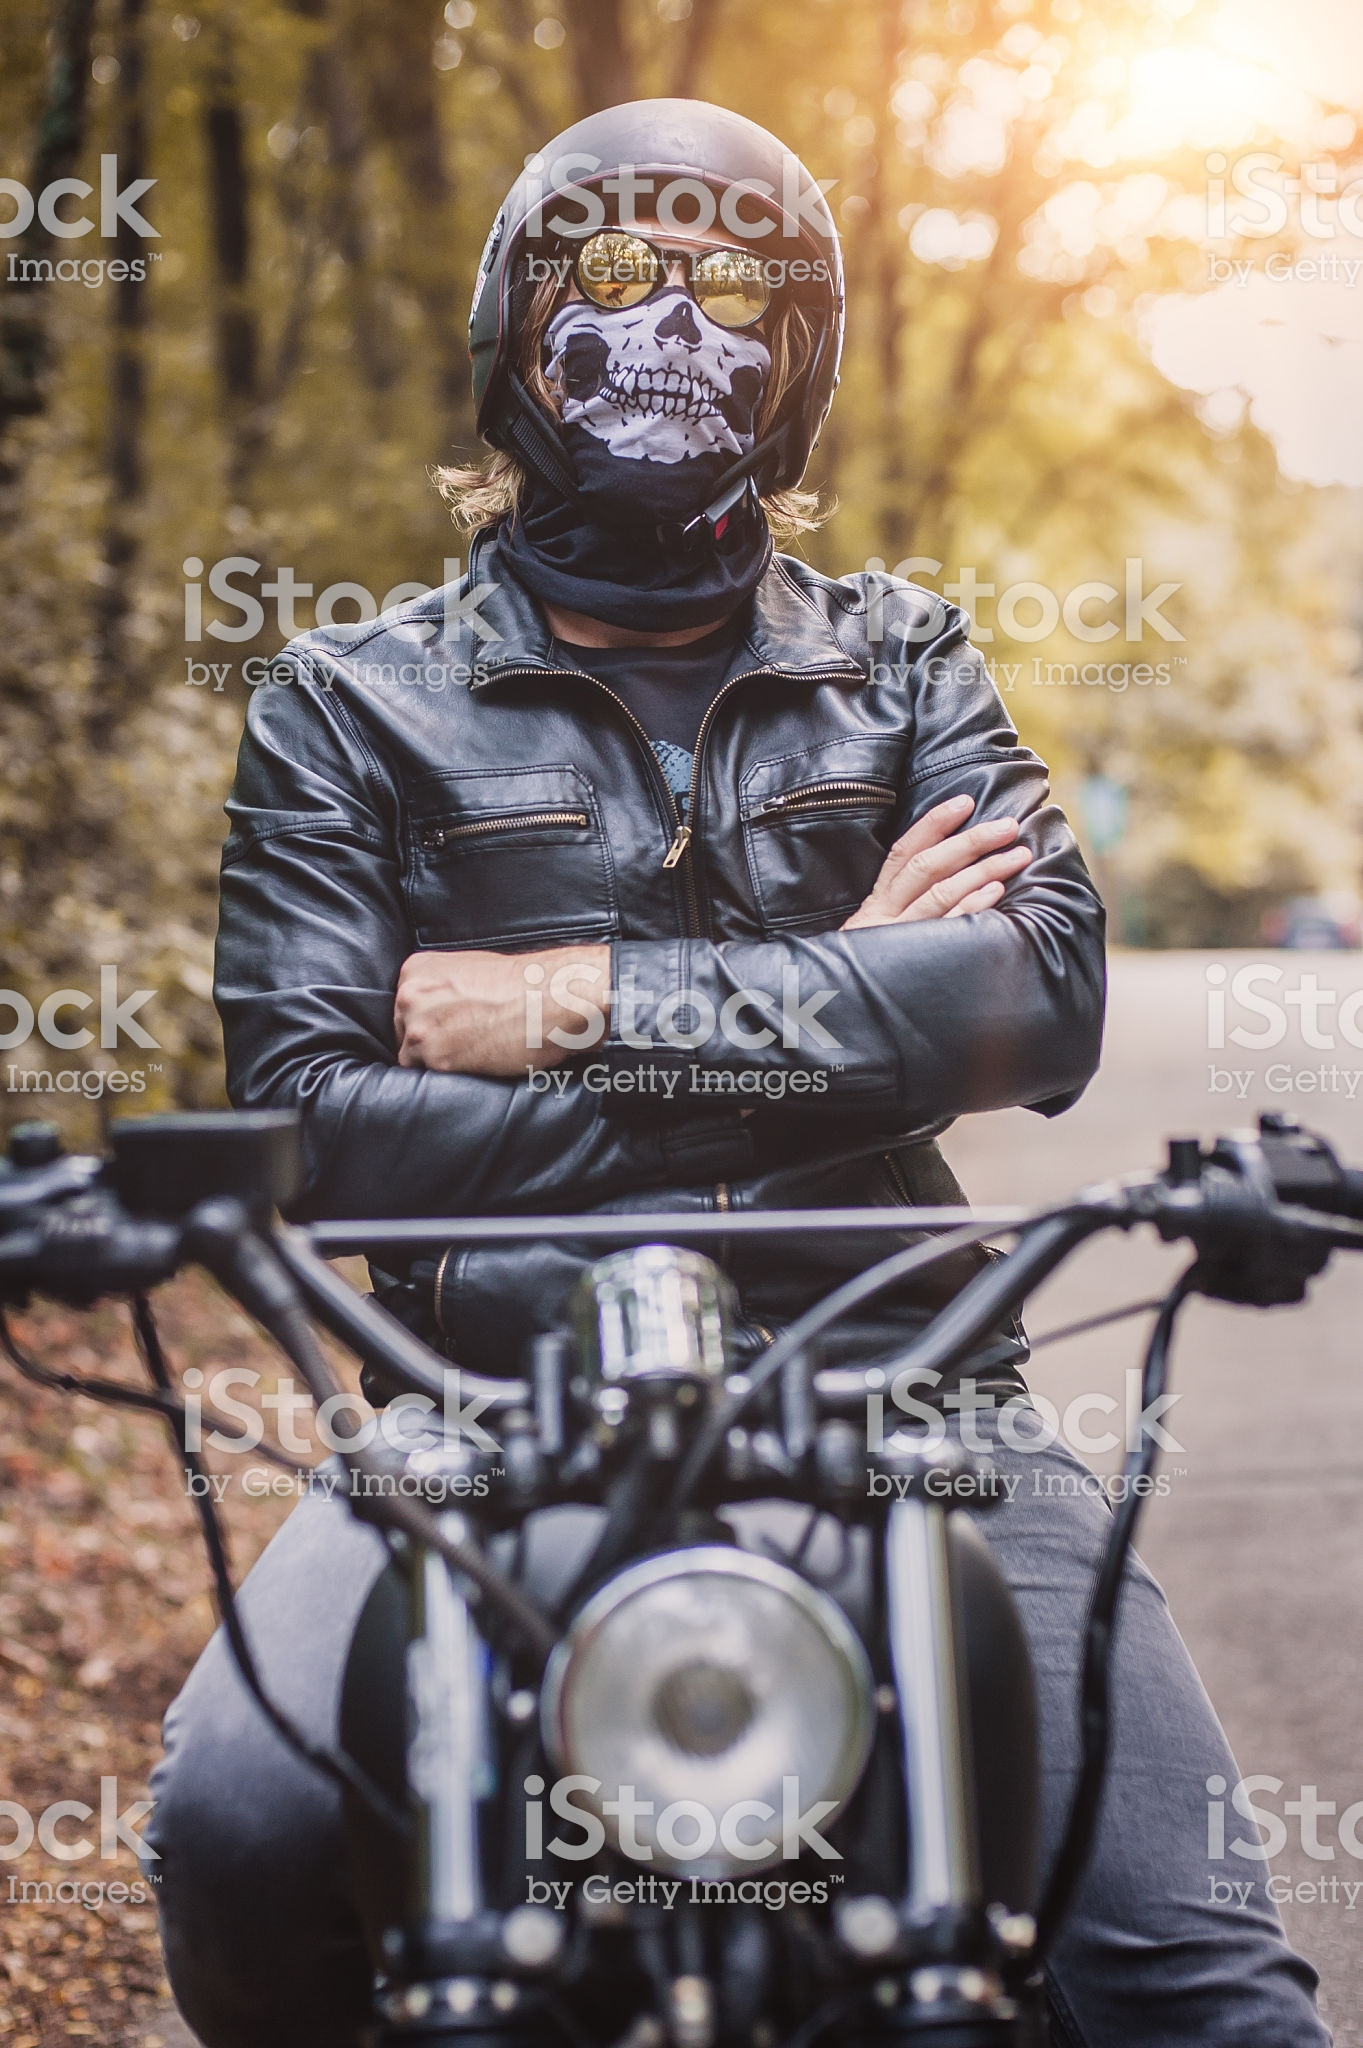helmet: (424, 109, 866, 522)
